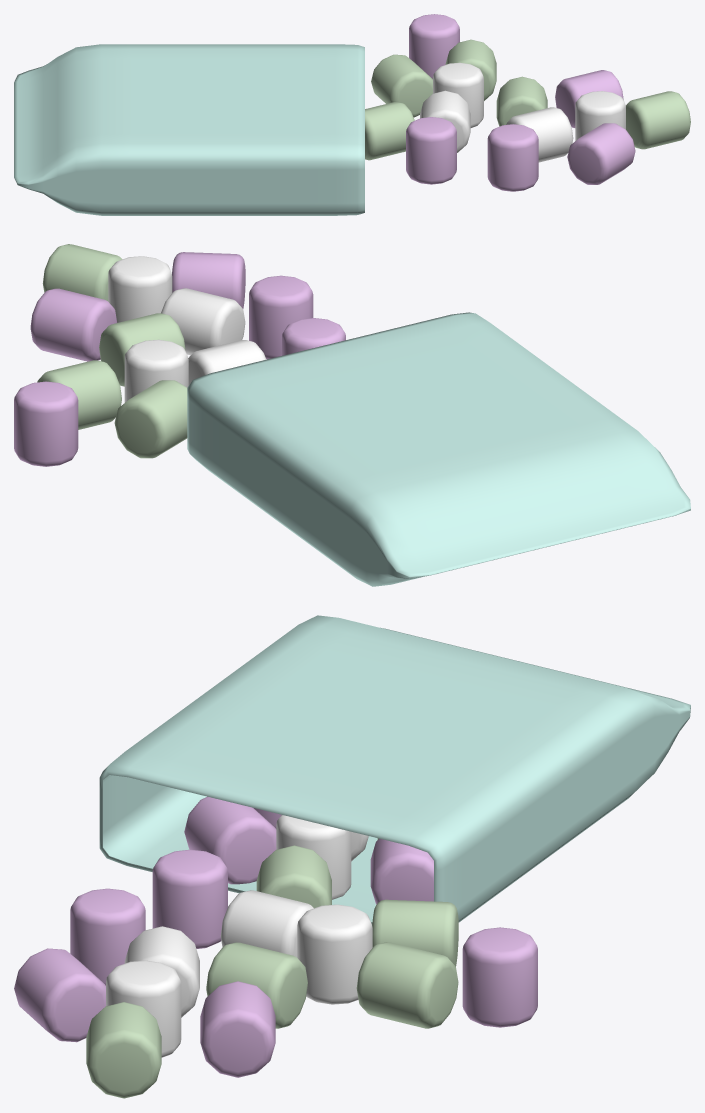
The model's file is marshmallow.gltf.
The picture shows the model from 3 angles, top to bottom: view 1: azimuth 30°, elevation 25°; view 2: azimuth 150°, elevation 25°; view 3: azimuth 270°, elevation 25°; orthographic projection. The views are drawn at different scales.
Parts seen in each view (by area): view 1: Marshmallow_227; view 2: Marshmallow_227; view 3: Marshmallow_227.
Part boxes in pixels (x1,y1,x2,y2): Marshmallow_227: (14,14,690,215); Marshmallow_227: (14,244,690,586); Marshmallow_227: (14,615,690,1098).
Bounding box in the file's own units: 129 × 14.87 × 87.35.
